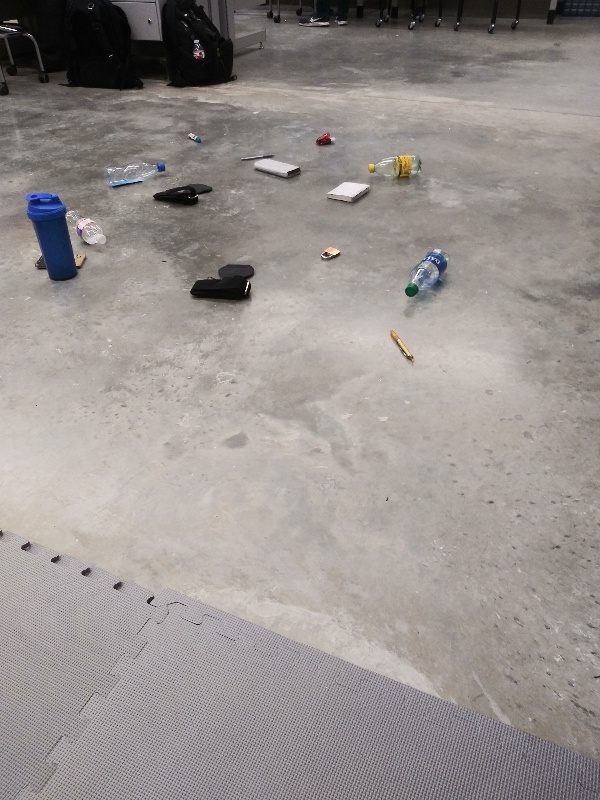bottle: (402, 244, 454, 298), (102, 159, 168, 189), (65, 206, 111, 246), (365, 151, 425, 179)
